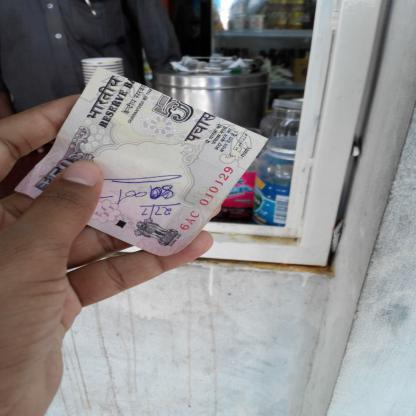Old50Front: (15, 66, 266, 256)
